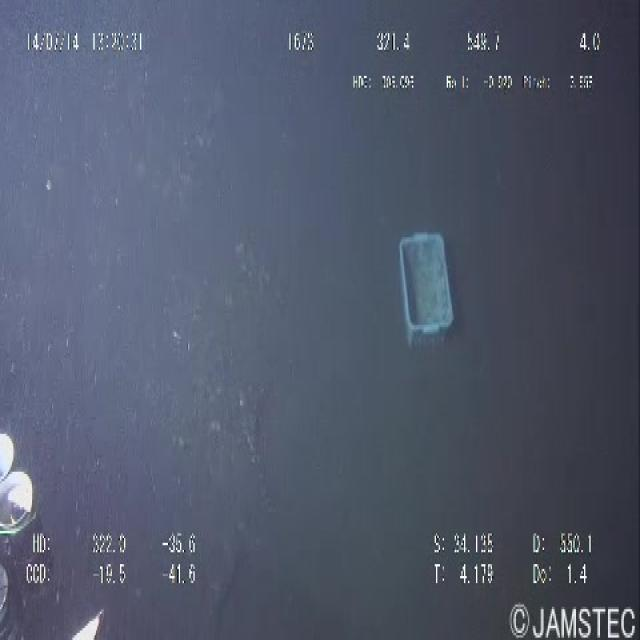plastic: (385, 185, 472, 389)
